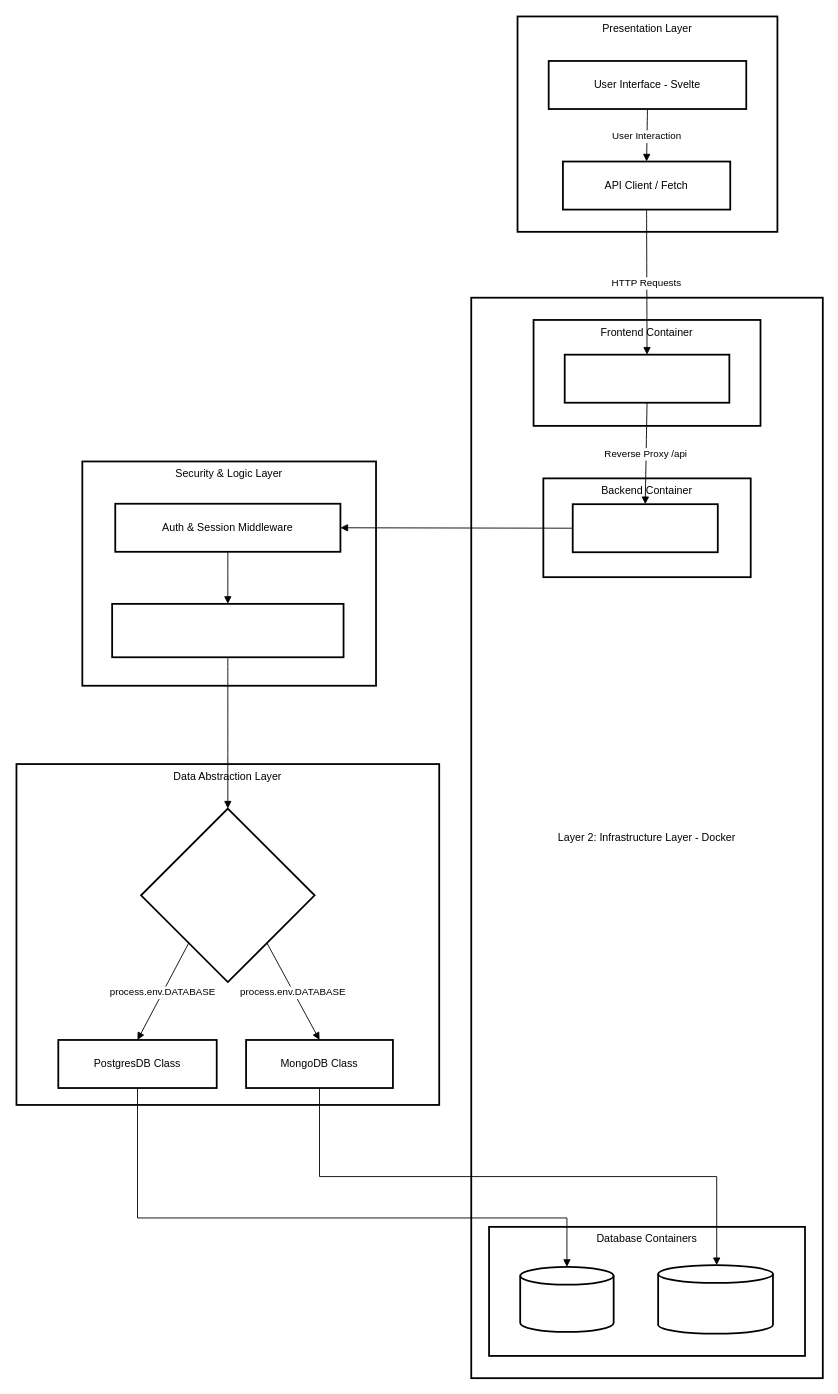
This 838x1394 diagram has some shape labels left out. Here are the shapes that lost their labels. From the top down, the centre of each, then its label:
pixel 646 378: Nginx Web Server
pixel 644 528: Express.js App
pixel 227 630: Input Validation
pixel 227 895: db Factory Instance
pixel 566 1299: Postgres SQL
pixel 715 1299: MongoDB NoSQL
